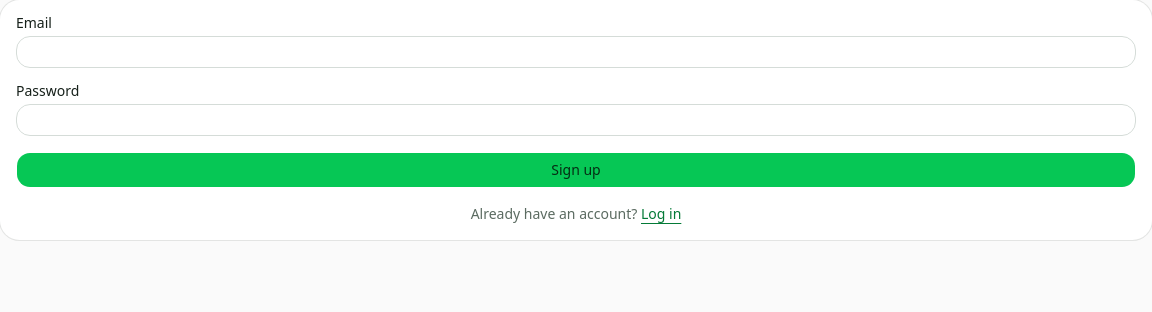
409 email_taken shows a clear message and stays on the form
The width and height of the screenshot is (1152, 312).
Type "new@x.io" into the field labelled "Email".
click(576, 52); type("new@x.io")  # box [16,36,1136,68]
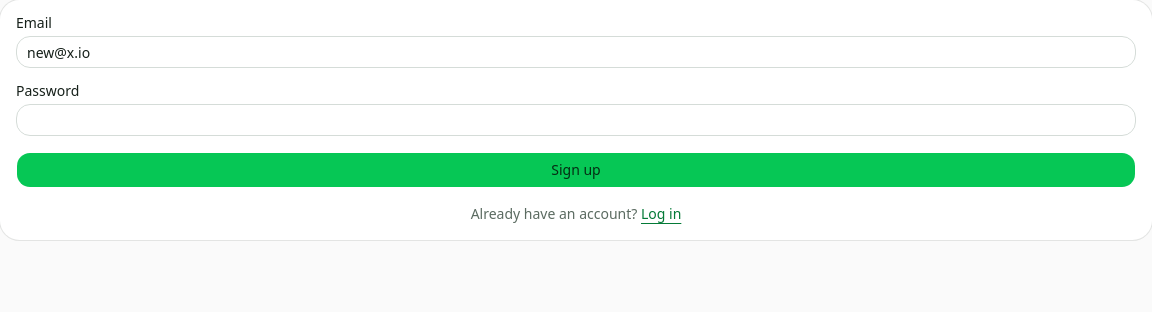
Type "correct-horse-battery" into the password field labelled "Password".
click(576, 120); type("correct-horse-battery")  # box [16,104,1136,136]
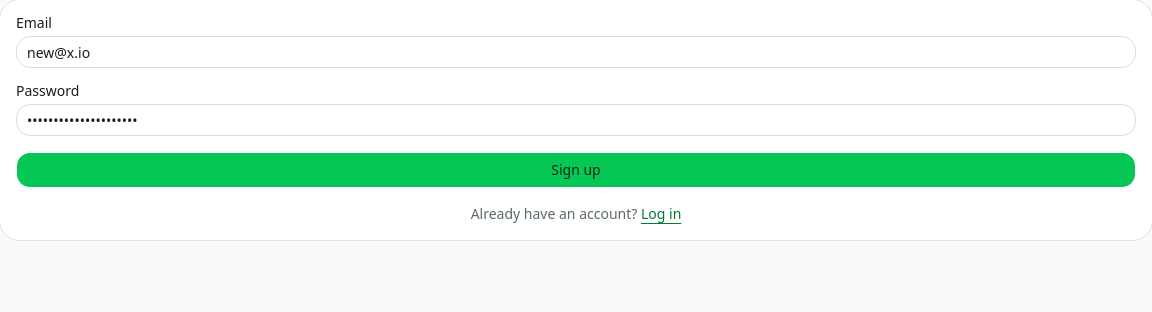
Click the button "Sign up".
click(576, 170)  # box [16,152,1136,188]
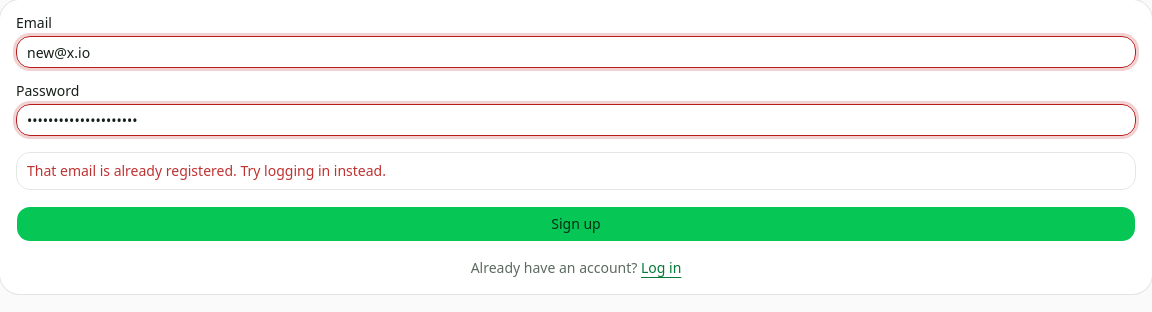
Expected: the message shows "already registered", [27,161,386,180]
